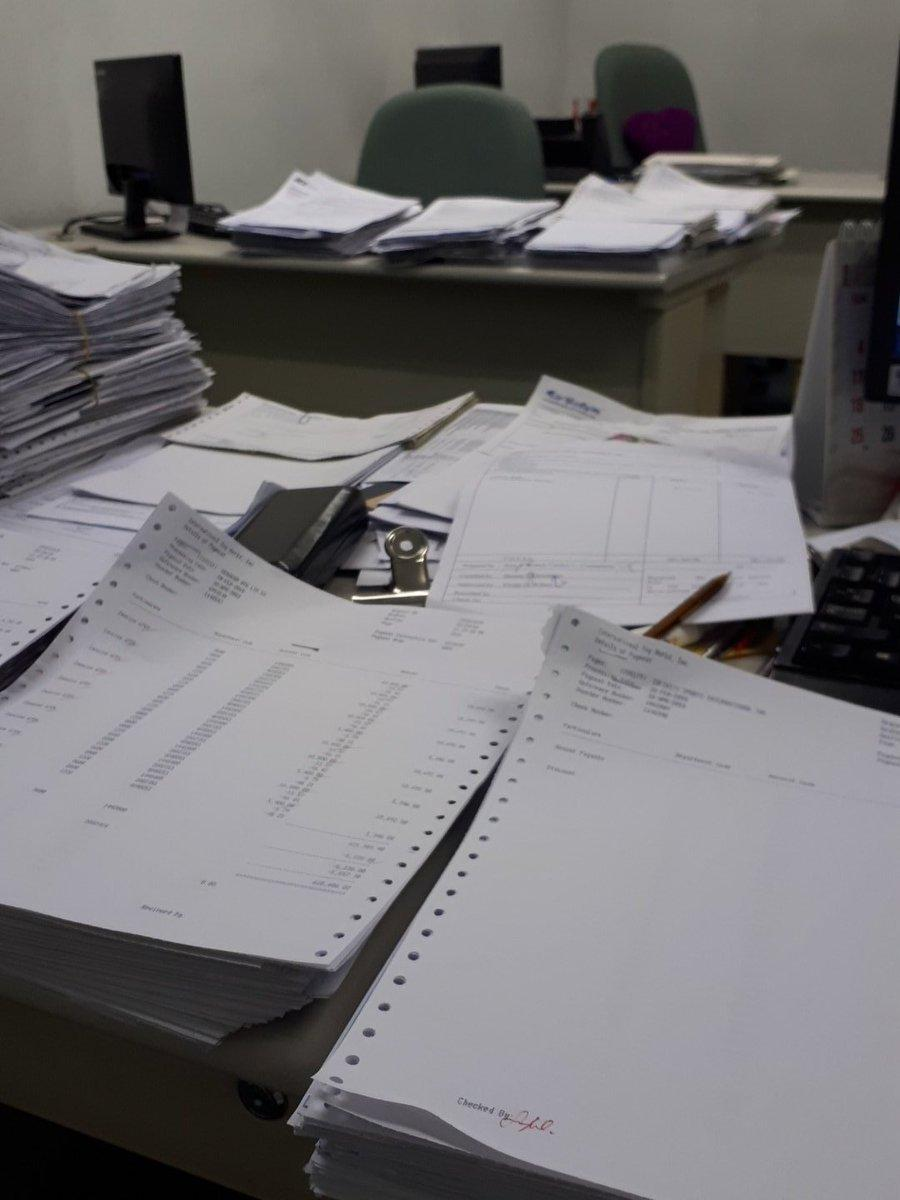plastic: (0, 477, 520, 1068), (420, 361, 850, 678)
